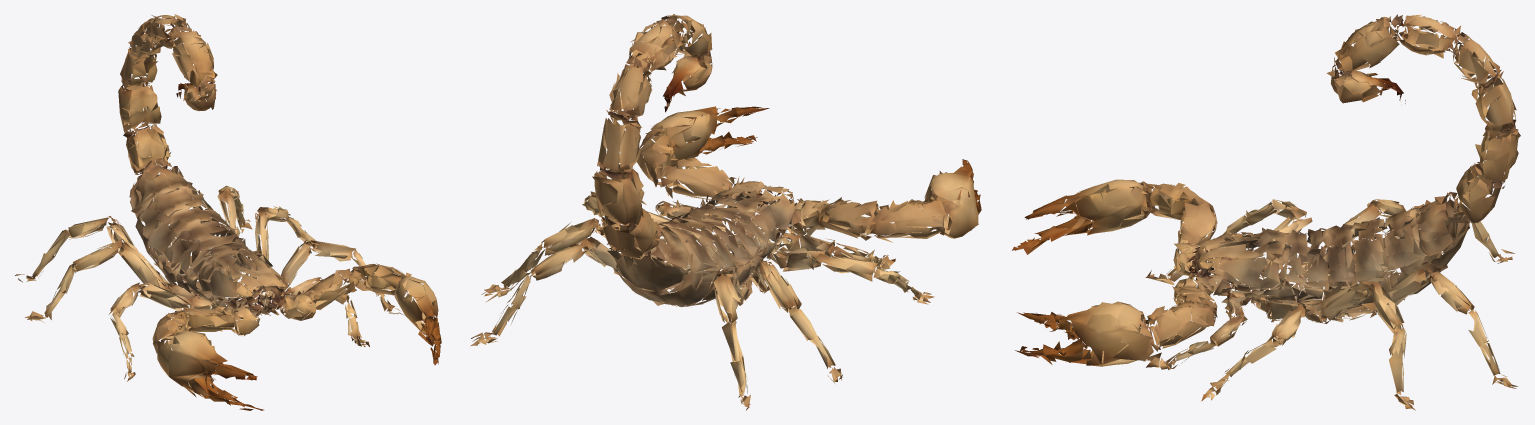
File: scorpion.glb
The picture shows the model from 3 angles, left to right: view 1: azimuth 30°, elevation 25°; view 2: azimuth 150°, elevation 25°; view 3: azimuth 270°, elevation 25°; orthographic projection. The views are drawn at different scales.
Parts seen in each view (by area): view 1: LO.001; view 2: LO.001; view 3: LO.001.
Boxes of the visible parts, x1=… form: LO.001: x1=15, y1=14, x2=441, y2=410; LO.001: x1=470, y1=14, x2=981, y2=410; LO.001: x1=1012, y1=14, x2=1520, y2=410.
Size of the model in its own units: 1.5 by 1.29 by 1.9.
Materials: 1 (1 with a texture image).
